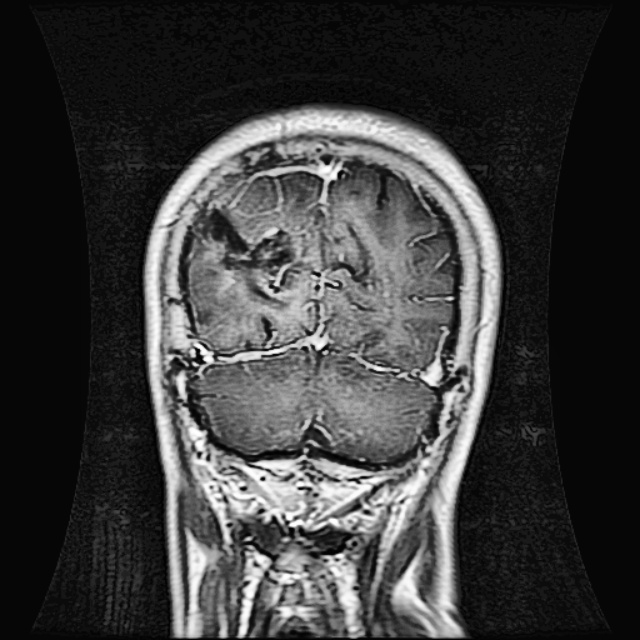Meningioma: (208, 205, 294, 293)
